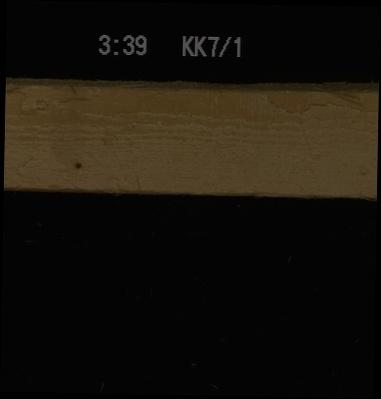small_knot: (70, 158, 83, 171)
